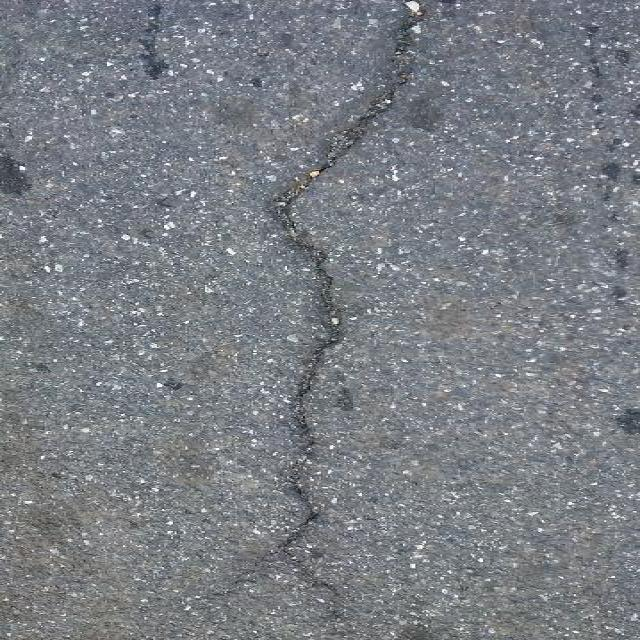moderate crack: (288, 328, 335, 431), (164, 456, 228, 497), (136, 2, 168, 79), (0, 152, 32, 197), (597, 160, 625, 205), (210, 153, 246, 180), (159, 377, 184, 390), (136, 224, 154, 240), (154, 194, 174, 208), (34, 361, 51, 374), (253, 46, 269, 58), (49, 470, 64, 480)
severe crack: (3, 366, 314, 634), (378, 5, 638, 266), (450, 400, 638, 630), (0, 2, 203, 182), (253, 488, 370, 630), (556, 356, 638, 436), (303, 156, 334, 180), (300, 505, 321, 526)
